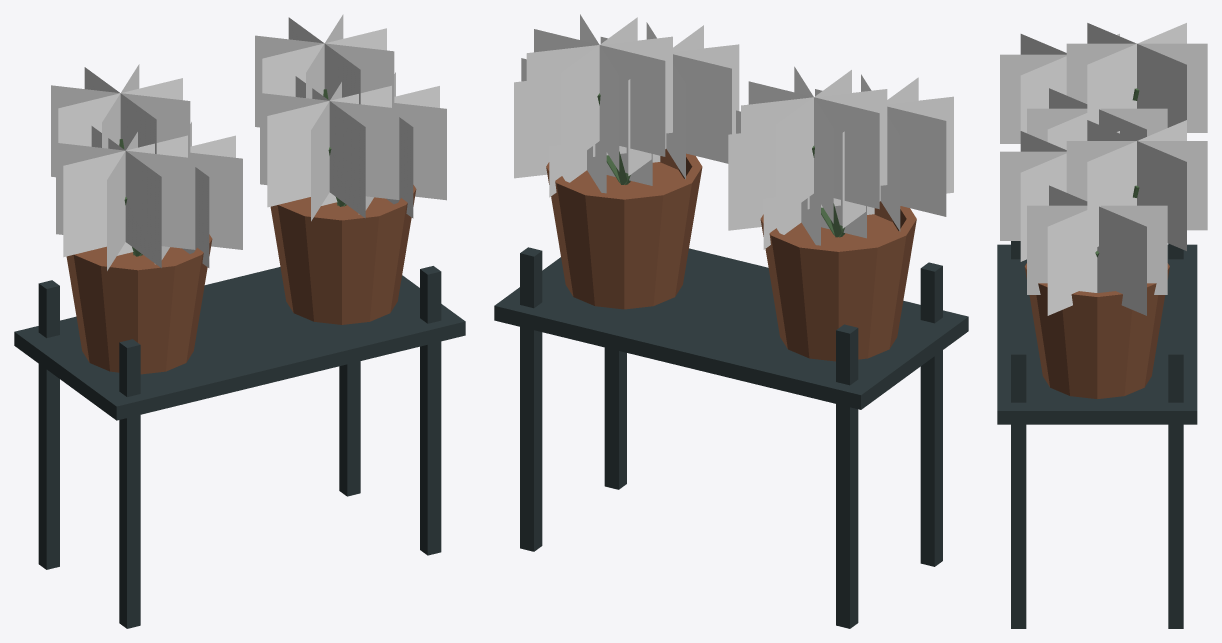
The picture shows the model from 3 angles, left to right: view 1: azimuth 30°, elevation 25°; view 2: azimuth 150°, elevation 25°; view 3: azimuth 270°, elevation 25°; orthographic projection. The views are drawn at different scales.
Visible parts, largest first — view 1: a08; view 2: a08; view 3: a08.
Part boxes in pixels (<box>): a08: <box>14,14,465,628</box>; a08: <box>494,14,968,628</box>; a08: <box>997,23,1207,628</box>.
Bounding box in the file's own units: 0.7271 × 0.8444 × 0.347.
